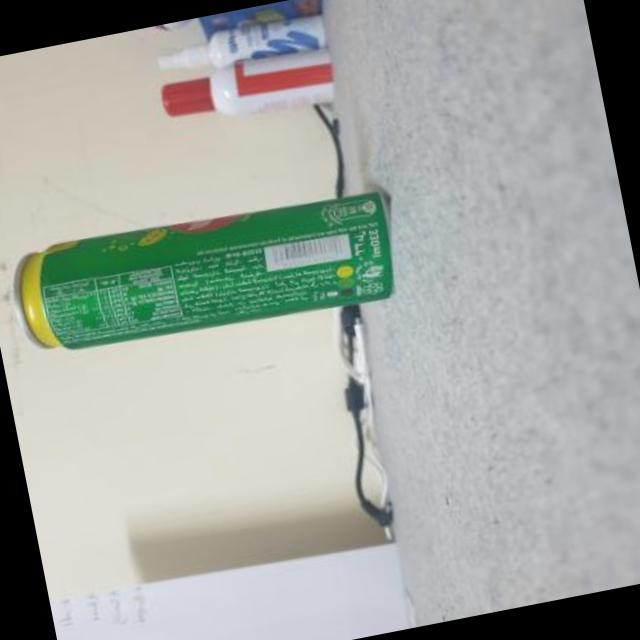metal: (11, 191, 388, 347)
